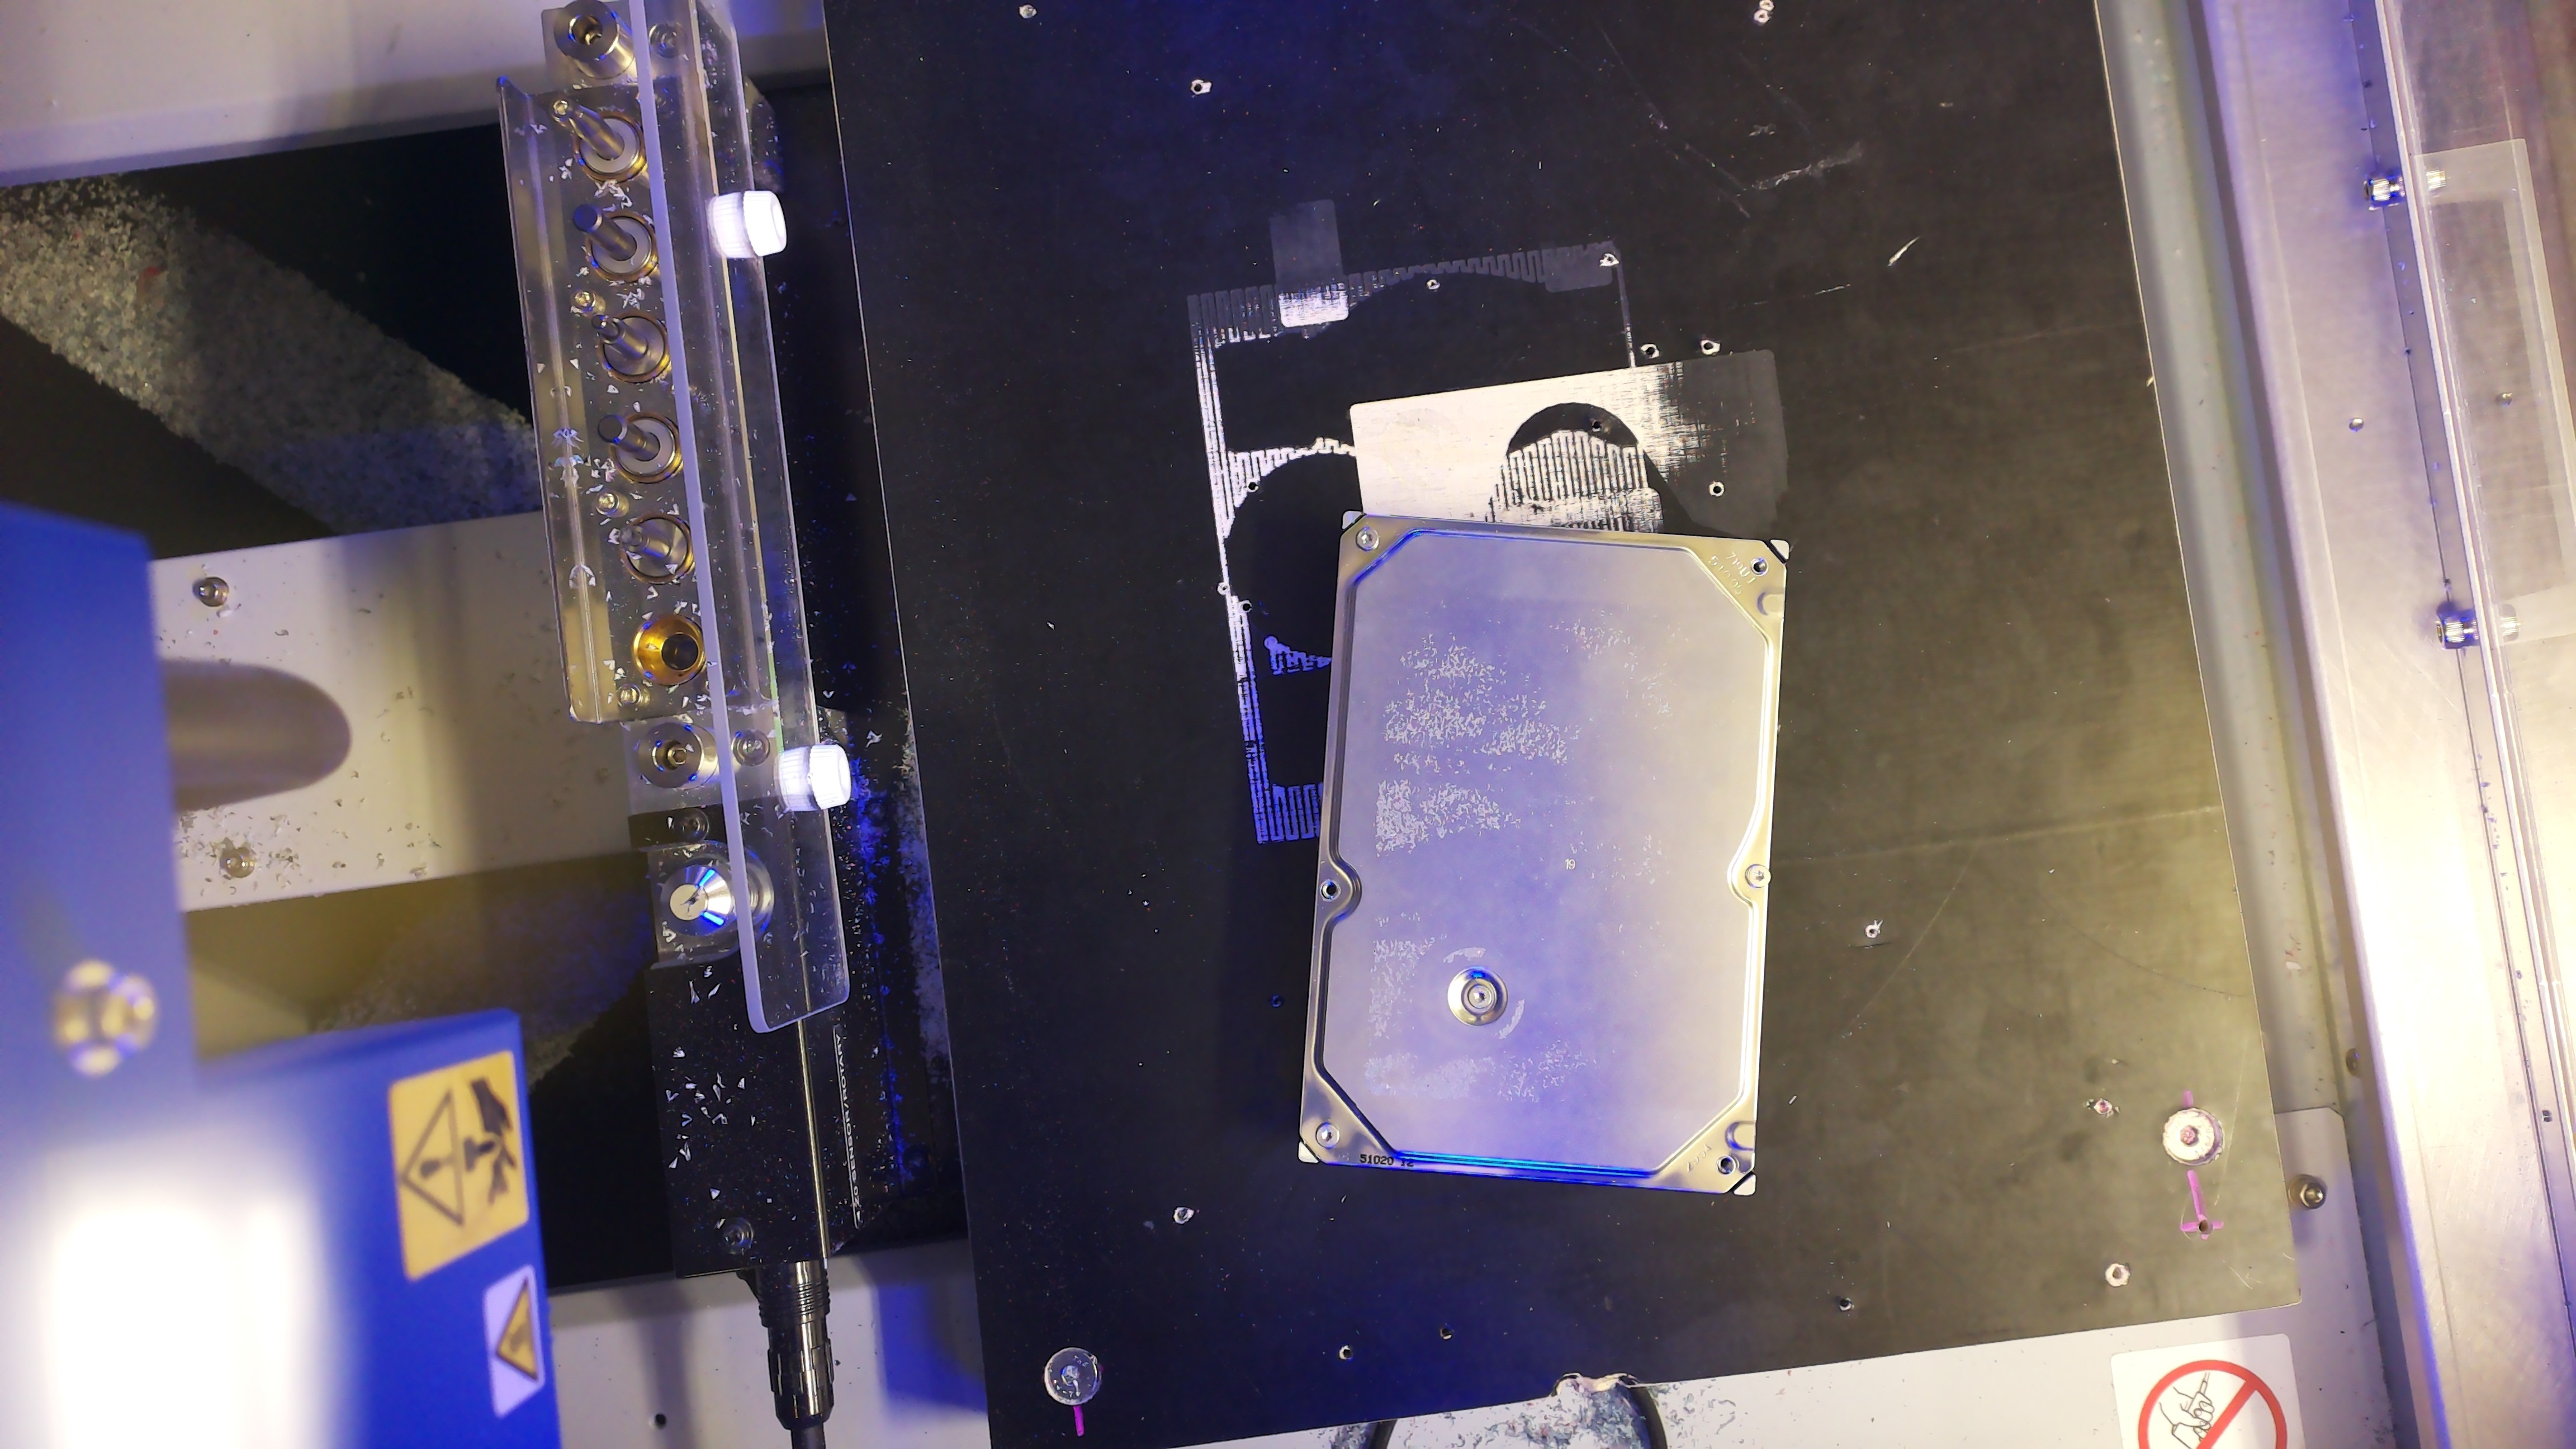Hole: (1320, 878, 1341, 902), (1716, 1155, 1736, 1175), (1750, 557, 1769, 577)
Screw: (1744, 863, 1771, 888), (1315, 1122, 1339, 1148), (1467, 984, 1491, 1008), (1355, 525, 1378, 550)
